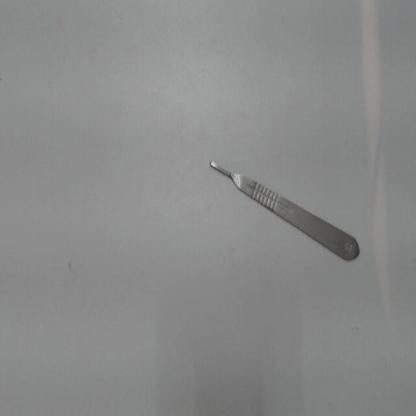No.3 BP Handle: (202, 147, 366, 274)
